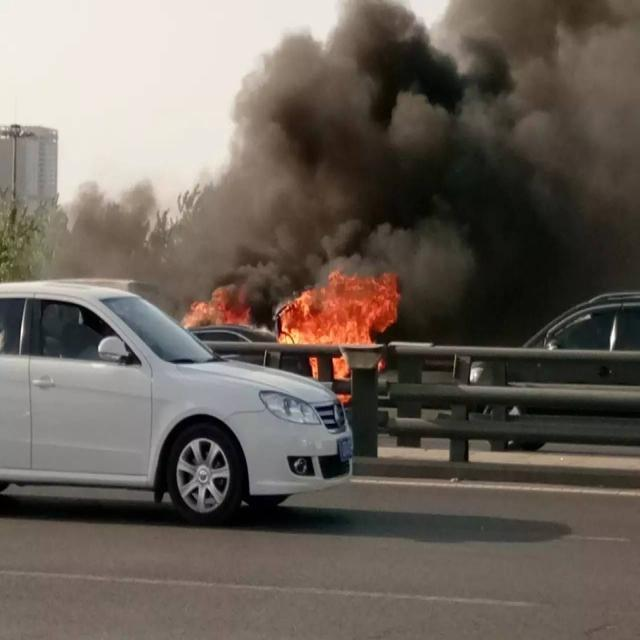Fire: (278, 270, 402, 346), (184, 288, 248, 326), (309, 351, 352, 404)
Smoke: (203, 0, 640, 263), (49, 179, 201, 277), (405, 268, 469, 332)
